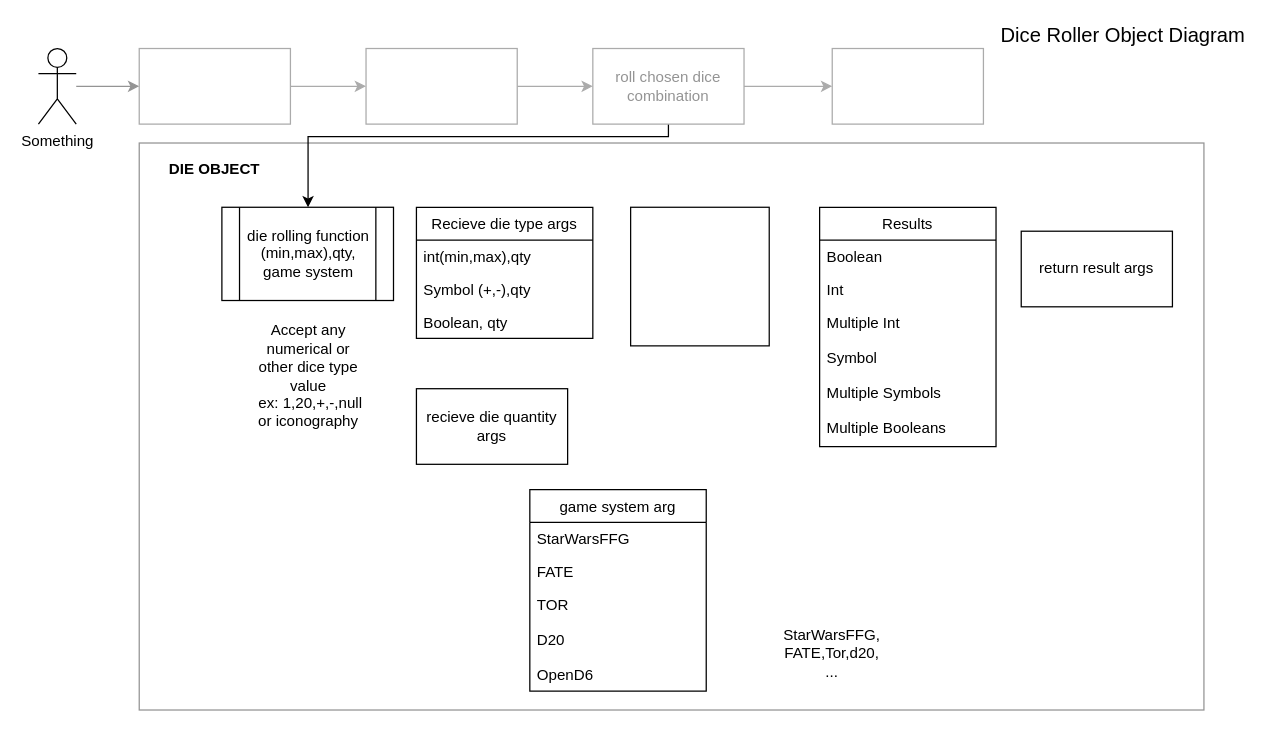
Image size: 1284x732. Some labels were removed from this diagram. Here are the shapes that lost their labels. From the top down, the centre of each, then its label:
At point 214,85: "something wants to roll a die".
At point 441,85: "choose die/dice".
At point 907,85: "return die/dice roll result".
At point 699,276: "Perform calculations".
